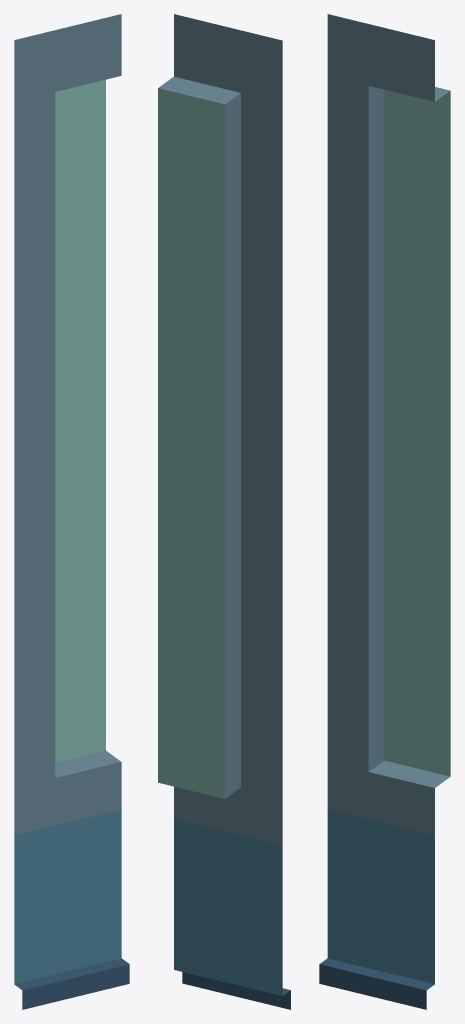
Rendered from wallWindowL.fbx.
3 renders of one model, left to right at view 1: azimuth 30°, elevation 25°; view 2: azimuth 150°, elevation 25°; view 3: azimuth 330°, elevation 25°, orthographic.
Parts seen in each view (by area): view 1: wallWindowL; view 2: wallWindowL; view 3: wallWindowL.
Part boxes in pixels (box(x1,y1,x2,y2)): wallWindowL: box(14, 14, 129, 1009); wallWindowL: box(158, 14, 290, 1009); wallWindowL: box(319, 14, 450, 1009).
Bounding box in the file's own units: 356 × 3054 × 137.
